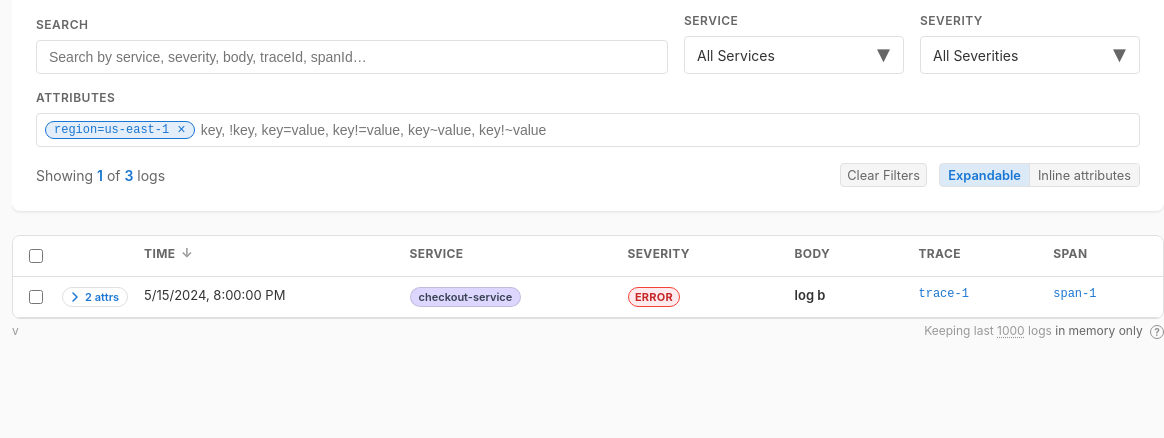
Test: Logs › attribute filters › restores chips from the URL and clears them
Expected: the text "log b" is shown, [783, 276, 906, 318]
Expected: the number of elements with test id "attribute-filter-chip" is 1, [45, 121, 195, 139]
Click the button "Clear Filters" at (884,175), box [840, 163, 927, 187]
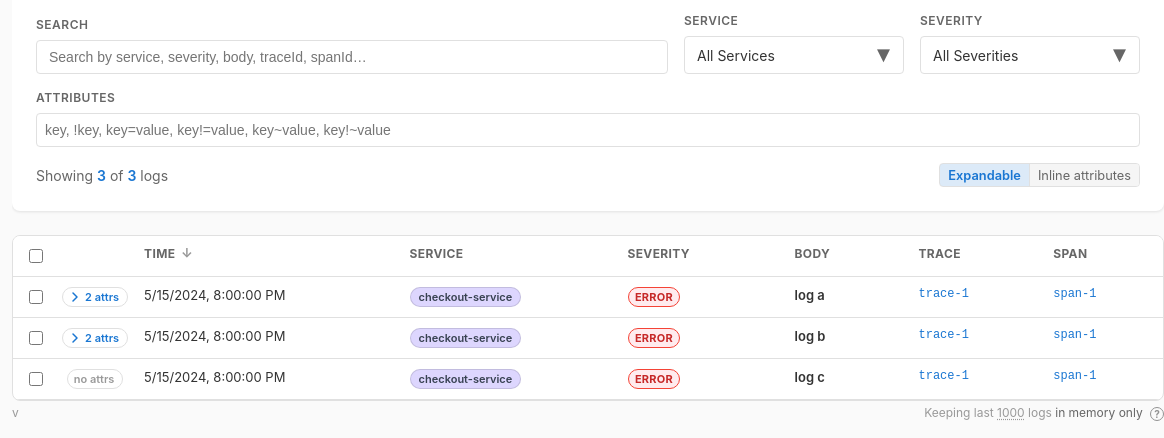
Now no elements with test id "attribute-filter-chip" are shown
